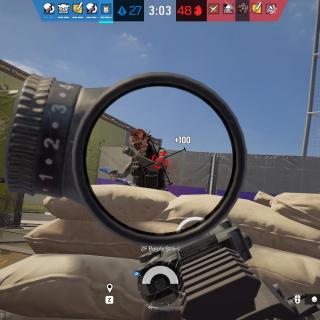Character: (100, 128, 170, 193)
Head: (130, 128, 148, 152)
